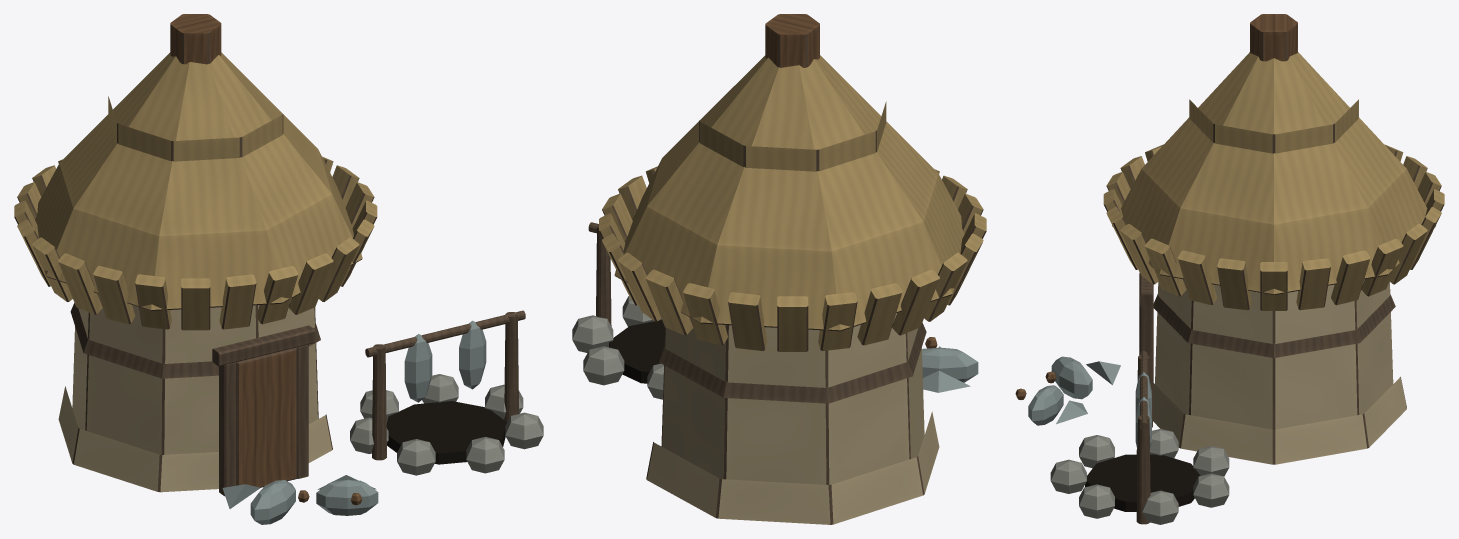
The model's file is smoke-pit-hut.glb.
The picture shows the model from 3 angles, left to right: view 1: azimuth 30°, elevation 25°; view 2: azimuth 150°, elevation 25°; view 3: azimuth 270°, elevation 25°; orthographic projection. The views are drawn at different scales.
Visible parts, largest first — view 1: smoke-pit-hut; view 2: smoke-pit-hut; view 3: smoke-pit-hut.
Part boxes in pixels (left/top/right/bottom): smoke-pit-hut: left=14, top=14, right=543, bottom=524; smoke-pit-hut: left=572, top=14, right=986, bottom=524; smoke-pit-hut: left=1015, top=14, right=1444, bottom=524.
Bounding box in the file's own units: 0.7057 × 0.655 × 0.6585.
Materials: 1 (1 with a texture image).
